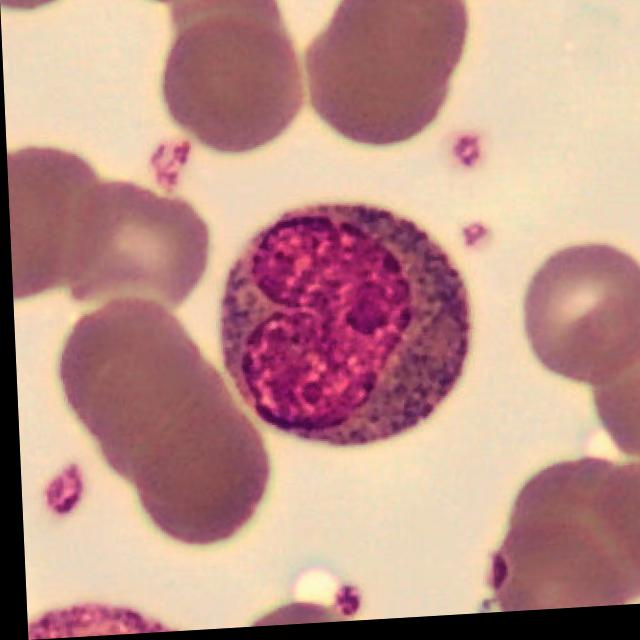Bastonete: (216, 208, 467, 450)
